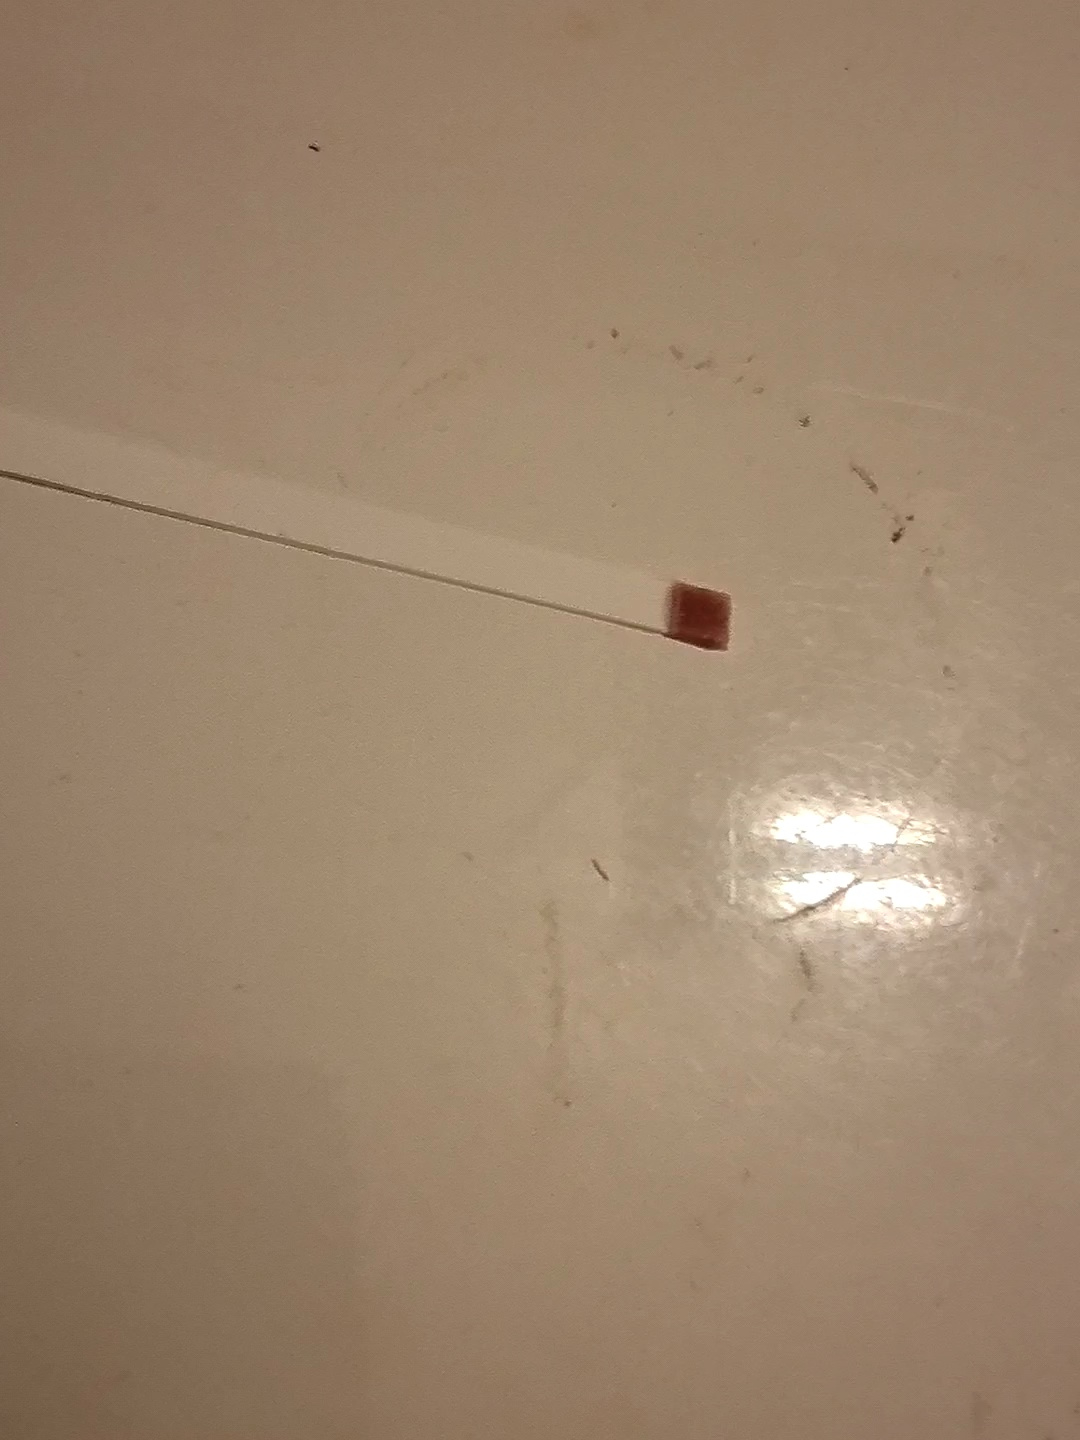keto-tip: (661, 570, 736, 660)
